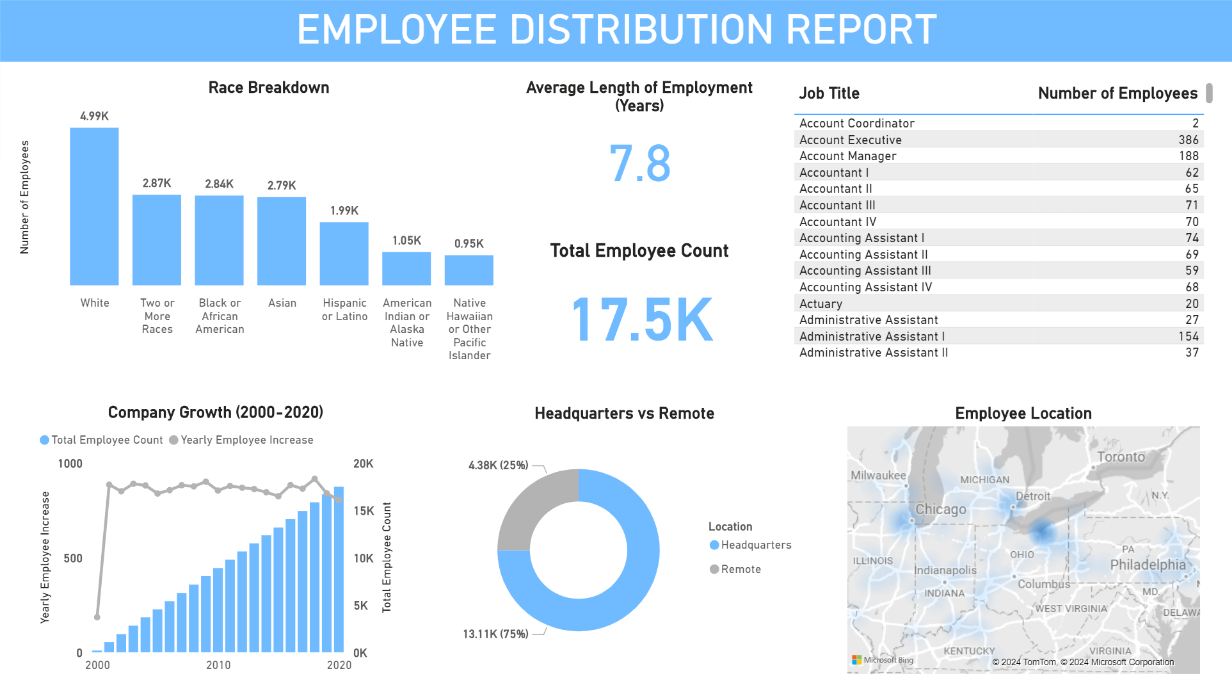

This screenshot's page, from the dashboard's own definition file:
{"tool":"powerbi","page":{"name":"Page 1","canvas":[1280,720],"ordinal":0},"visuals":[{"type":"textbox","box":[0,0,1280.3,63.6],"z":0},{"type":"clusteredColumnChart","title":"Race Breakdown","fields":{"Category":["Race Breakdown.race"],"Y":["Sum(Race Breakdown.count)"]},"box":[13.8,80,530,303.8],"z":1000},{"type":"lineClusteredColumnComboChart","title":"Company Growth (2000-2020)","fields":{"Category":["Company Growth by Year.year"],"Y2":["Sum(Company Growth by Year.net_growth)"],"Y":["Sum(Company Growth by Year.total_employees)"]},"box":[35.5,417,376.6,287.4],"z":2000},{"type":"donutChart","title":"Headquarters vs Remote","fields":{"Category":["Location Breakdown.location"],"Y":["Sum(Location Breakdown.count)"]},"box":[460,417.5,376.2,286.2],"z":3000},{"type":"map","title":"Employee Location","fields":{"Size":["Sum(City State Location Distribution.count)"],"Category":["City State Location Distribution.full_location"]},"box":[873.8,417.5,376.2,286.2],"z":4000},{"type":"card","title":"Average Length of Employment (Years)","fields":{"Values":["Sum(Average Employment Length.avg_employment_length)"]},"box":[531.2,80,265,126.2],"z":5000},{"type":"card","title":"Total Employee Count","fields":{"Values":["Sum(Company Growth by Year.net_growth)"]},"box":[531.2,247.5,265,127.5],"z":6000},{"type":"tableEx","fields":{"Values":["Job Title Breakdown.jobtitle","Sum(Job Title Breakdown.count)"]},"box":[817.5,80,446.2,295],"z":7000}]}

Visuals, with their boxes in screenshot pixels (x1, y1, x2, y2), scaled from the page's 1280x720 canvas onto the 1232x690 screenshot:
textbox: region(0, 0, 1231, 61)
"Race Breakdown" clusteredColumnChart: region(13, 77, 523, 368)
"Company Growth (2000-2020)" lineClusteredColumnComboChart: region(34, 400, 397, 675)
"Headquarters vs Remote" donutChart: region(443, 400, 805, 674)
"Employee Location" map: region(841, 400, 1203, 674)
"Average Length of Employment (Years)" card: region(511, 77, 766, 198)
"Total Employee Count" card: region(511, 237, 766, 359)
tableEx - Job Title Breakdown.jobtitle x Sum(Job Title Breakdown.count): region(787, 77, 1216, 359)
